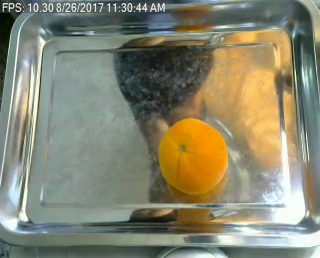Orange: (159, 117, 229, 195)
